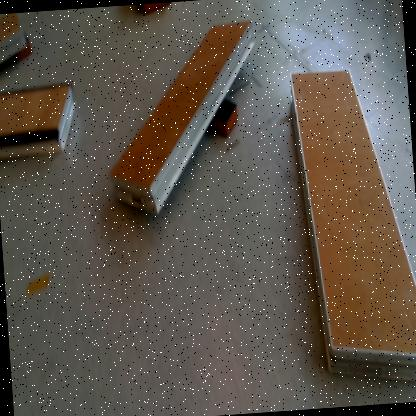Stairs: (290, 67, 416, 382), (112, 20, 256, 217), (1, 87, 76, 161), (1, 14, 26, 64)
